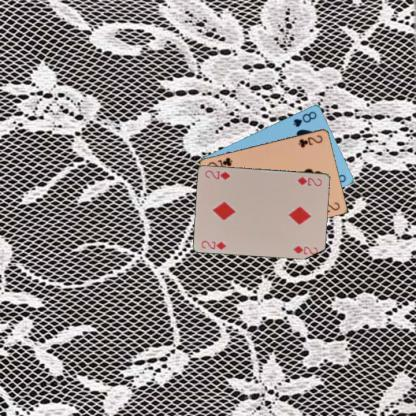2c: (296, 132, 323, 148)
2d: (198, 238, 228, 251), (294, 174, 323, 187)
8s: (290, 109, 318, 128)
